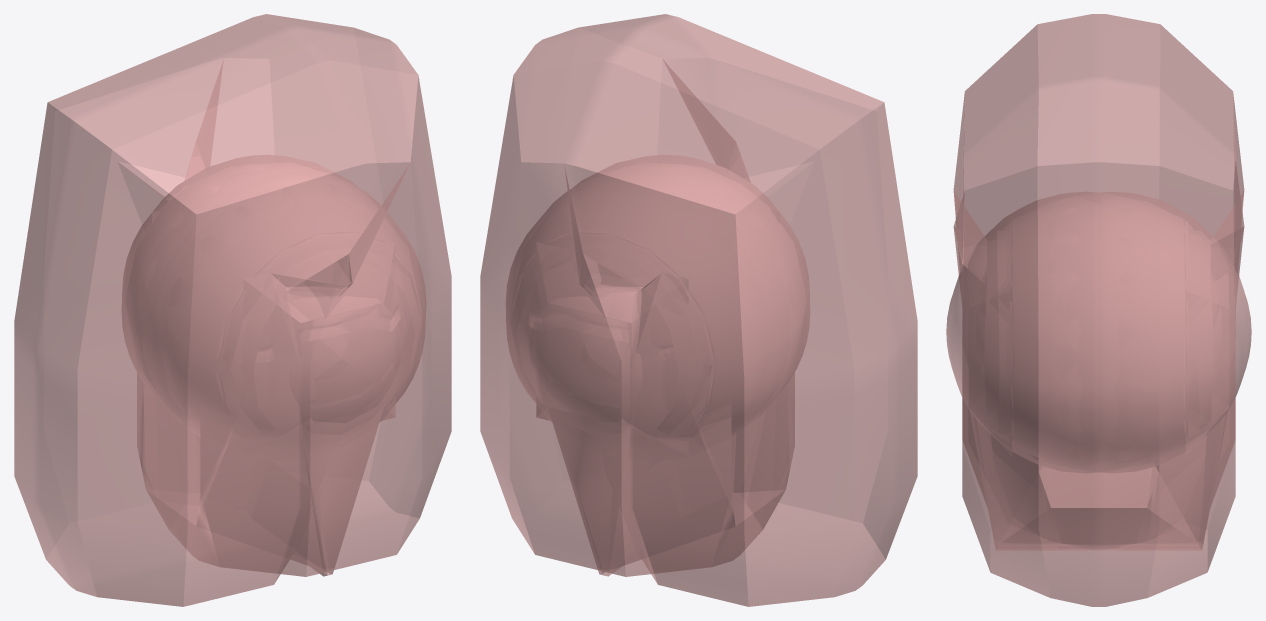
File: door_cg.fbx
3 views of the same model, side by side, from view 1: azimuth 30°, elevation 25°; view 2: azimuth 150°, elevation 25°; view 3: azimuth 270°, elevation 25° (orthographic). The views are drawn at different scales.
Parts seen in each view (by area): view 1: door_cg; view 2: door_cg; view 3: door_cg.
Boxes of the visible parts, bbox=[...] form: door_cg: bbox=[14, 14, 451, 606]; door_cg: bbox=[480, 14, 917, 606]; door_cg: bbox=[946, 14, 1251, 606].
Size of the model in its own units: 3.16 by 3.89 by 2.24.
